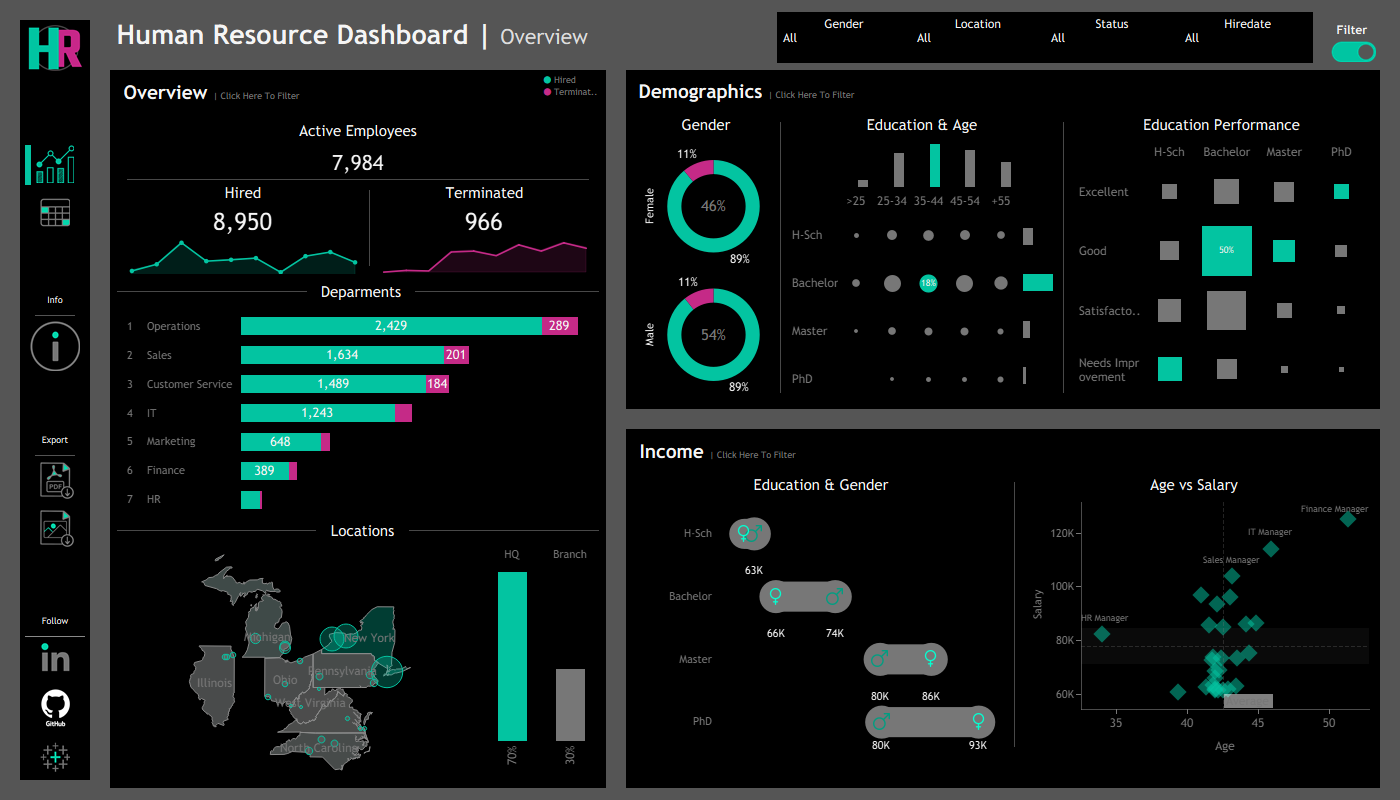

The page's visual inventory and layout, read from the dashboard file:
{"tool":"tableau","page":{"name":"HR | Summary","canvas":[1400,800],"ordinal":1},"visuals":[{"type":"blank","box":[89,0,1311,186]},{"type":"text","box":[110,0,949,70]},{"type":"blank","box":[1059,0,321,70]},{"type":"filter","title":"Gender vs Edu Level","param":"[federated.1epie721qamutk1f8vla402ryr66].[none:Gender:nk]","box":[777,12,134,51]},{"type":"filter","title":"Gender vs Edu Level","param":"[federated.1epie721qamutk1f8vla402ryr66].[none:Calculation_0877701839294473:nk]","box":[911,12,134,51]},{"type":"filter","title":"Gender vs Edu Level","param":"[federated.1epie721qamutk1f8vla402ryr66].[none:Calculation_1261156856659968:nk]","box":[1045,12,134,51]},{"type":"filter","title":"Gender vs Edu Level","param":"[federated.1epie721qamutk1f8vla402ryr66].[yr:Hiredate:ok]","box":[1179,12,134,51]},{"type":"text","box":[1313,16,78,28]},{"type":"image","param":"Image/Logo.png","box":[20,20,70,55]},{"type":"dashboard-object","box":[1329,41,49,21]},{"type":"text","box":[541,72,61,30]},{"type":"blank","box":[20,75,70,60]},{"type":"text","box":[632,76,742,31]},{"type":"text","box":[117,77,482,32]},{"type":"text","box":[117,109,482,38]},{"type":"text","box":[632,112,132,26]},{"type":"blank","box":[764,112,1,291]},{"type":"text","box":[765,112,282,26]},{"type":"blank","box":[1047,112,1,291]},{"type":"text","box":[1053,112,321,26]},{"type":"worksheet","title":"Gender","mark":"Pie","rows":["Gender"],"cols":["Calculation_0877701886140427","Calculation_0877701886140427"],"box":[632,138,132,265]},{"type":"worksheet","title":"Age Groups","mark":"Bar","rows":["Calculation_0877701809778688"],"cols":["Calculation_0877701892001805"],"box":[770,138,272,53]},{"type":"worksheet","title":"Educational BG vs Performance","mark":"Square","rows":["Performance Rating"],"cols":["Education Level"],"box":[1053,138,321,265]},{"type":"blank","box":[25,145,6,40]},{"type":"dashboard-object","box":[30,145,50,38]},{"type":"worksheet","title":"BAN Active","mark":"Text","box":[117,147,482,32]},{"type":"blank","box":[117,179,482,1]},{"type":"text","box":[117,180,252,26]},{"type":"blank","box":[369,180,1,96]},{"type":"text","box":[370,180,228.9,26]},{"type":"blank","box":[30,183,50,10]},{"type":"text","box":[89,186,1311,307]},{"type":"worksheet","title":"Age vs Education","mark":"Circle","rows":["Education Level"],"cols":["Calculation_0877701892001805"],"box":[770,191,233,212]},{"type":"worksheet","title":"Education Levels","mark":"Bar","rows":["Education Level"],"cols":["Calculation_0877701809778688"],"box":[1003,191,39,212]},{"type":"dashboard-object","box":[30,193,50,38]},{"type":"worksheet","title":"BAN Hired","mark":"Text","box":[117,206,252,32]},{"type":"worksheet","title":"BAN Terminated","mark":"Text","box":[370,206,228.9,32]},{"type":"blank","box":[30,231,50,60]},{"type":"worksheet","title":"Hired By Year","mark":"Line","rows":["Calculation_0877701809778688","Calculation_0877701809778688"],"cols":["Hiredate"],"box":[117,238,252,38]},{"type":"worksheet","title":"Terminated By Year","mark":"Area","rows":["Calculation_0877701809983489","Calculation_0877701809983489"],"cols":["Termdate"],"box":[370,238,228.9,38]},{"type":"blank","box":[117,276,190,32]},{"type":"text","box":[307,276,108,32]},{"type":"blank","box":[415,276,184,32]},{"type":"text","box":[30,291,50,19]},{"type":"worksheet","title":"Deparments","mark":"Bar","rows":["Calculation_0877701838131208","Department"],"cols":["Calculation_0877701809778688"],"box":[117,308,482,210]},{"type":"blank","box":[30,310,50,11]},{"type":"dashboard-object","box":[30,321,50,50]},{"type":"blank","box":[30,371,50,60]},{"type":"text","box":[30,431,50,19]},{"type":"text","box":[633,436,740,31]},{"type":"blank","box":[30,450,50,11]},{"type":"dashboard-object","box":[30,461,50,38]},{"type":"text","box":[633,472,376,26]},{"type":"blank","box":[1014,472,1,285]},{"type":"text","box":[1015,472,358,26]},{"type":"blank","box":[89,493,1311,307]},{"type":"worksheet","title":"Gender vs Edu Level","mark":"Square","rows":["Education Level"],"cols":["Salary","Salary"],"box":[633,498,376,259]},{"type":"worksheet","title":"Age vs Salary","mark":"Shape","rows":["Salary"],"cols":["Calculation_0877701890605068"],"box":[1015,498,358,259]},{"type":"blank","box":[30,499,50,10]},{"type":"dashboard-object","box":[30,509,50,38]},{"type":"blank","box":[117,518,199,26]},{"type":"text","box":[316,518,92.9,26]},{"type":"blank","box":[408.9,518,190.1,26]},{"type":"worksheet","title":"Map States","mark":"Automatic","box":[117,544,366.4,237]},{"type":"worksheet","title":"Location","mark":"Bar","rows":["Calculation_0877701809778688"],"cols":["Calculation_0877701839294473","Calculation1"],"box":[483.4,544,115.6,237]},{"type":"blank","box":[20,571,70,41]},{"type":"text","box":[20,612,70,19]},{"type":"blank","box":[20,631,70,11]},{"type":"image","param":"Image/contact-linkedin.png","box":[20,642,70,30]},{"type":"blank","box":[20,672,70,10]},{"type":"image","param":"Image/github-logo.jpg","box":[20,682,70,50]},{"type":"blank","box":[20,732,70,10]},{"type":"image","param":"Image/contact-public.png","box":[20,742,70,30]}]}

Visuals, with their boxes in screenshot pixels (x1, y1, x2, y2), scaled from the page's 1400x800 canvas onto the 1400x800 screenshot:
blank: Rect(89, 0, 1399, 186)
text: Rect(110, 0, 1059, 70)
blank: Rect(1059, 0, 1380, 70)
"Gender vs Edu Level" filter: Rect(777, 12, 911, 63)
"Gender vs Edu Level" filter: Rect(911, 12, 1045, 63)
"Gender vs Edu Level" filter: Rect(1045, 12, 1179, 63)
"Gender vs Edu Level" filter: Rect(1179, 12, 1313, 63)
text: Rect(1313, 16, 1391, 44)
image: Rect(20, 20, 90, 75)
dashboard-object: Rect(1329, 41, 1378, 62)
text: Rect(541, 72, 602, 102)
blank: Rect(20, 75, 90, 135)
text: Rect(632, 76, 1374, 107)
text: Rect(117, 77, 599, 109)
text: Rect(117, 109, 599, 147)
text: Rect(632, 112, 764, 138)
blank: Rect(764, 112, 765, 403)
text: Rect(765, 112, 1047, 138)
blank: Rect(1047, 112, 1048, 403)
text: Rect(1053, 112, 1374, 138)
"Gender" worksheet (Pie marks): Rect(632, 138, 764, 403)
"Age Groups" worksheet (Bar marks): Rect(770, 138, 1042, 191)
"Educational BG vs Performance" worksheet (Square marks): Rect(1053, 138, 1374, 403)
blank: Rect(25, 145, 31, 185)
dashboard-object: Rect(30, 145, 80, 183)
"BAN Active" worksheet (Text marks): Rect(117, 147, 599, 179)
blank: Rect(117, 179, 599, 180)
text: Rect(117, 180, 369, 206)
blank: Rect(369, 180, 370, 276)
text: Rect(370, 180, 599, 206)
blank: Rect(30, 183, 80, 193)
text: Rect(89, 186, 1399, 493)
"Age vs Education" worksheet (Circle marks): Rect(770, 191, 1003, 403)
"Education Levels" worksheet (Bar marks): Rect(1003, 191, 1042, 403)
dashboard-object: Rect(30, 193, 80, 231)
"BAN Hired" worksheet (Text marks): Rect(117, 206, 369, 238)
"BAN Terminated" worksheet (Text marks): Rect(370, 206, 599, 238)
blank: Rect(30, 231, 80, 291)
"Hired By Year" worksheet (Line marks): Rect(117, 238, 369, 276)
"Terminated By Year" worksheet (Area marks): Rect(370, 238, 599, 276)
blank: Rect(117, 276, 307, 308)
text: Rect(307, 276, 415, 308)
blank: Rect(415, 276, 599, 308)
text: Rect(30, 291, 80, 310)
"Deparments" worksheet (Bar marks): Rect(117, 308, 599, 518)
blank: Rect(30, 310, 80, 321)
dashboard-object: Rect(30, 321, 80, 371)
blank: Rect(30, 371, 80, 431)
text: Rect(30, 431, 80, 450)
text: Rect(633, 436, 1373, 467)
blank: Rect(30, 450, 80, 461)
dashboard-object: Rect(30, 461, 80, 499)
text: Rect(633, 472, 1009, 498)
blank: Rect(1014, 472, 1015, 757)
text: Rect(1015, 472, 1373, 498)
blank: Rect(89, 493, 1399, 799)
"Gender vs Edu Level" worksheet (Square marks): Rect(633, 498, 1009, 757)
"Age vs Salary" worksheet (Shape marks): Rect(1015, 498, 1373, 757)
blank: Rect(30, 499, 80, 509)
dashboard-object: Rect(30, 509, 80, 547)
blank: Rect(117, 518, 316, 544)
text: Rect(316, 518, 409, 544)
blank: Rect(409, 518, 599, 544)
"Map States" worksheet: Rect(117, 544, 483, 781)
"Location" worksheet (Bar marks): Rect(483, 544, 599, 781)
blank: Rect(20, 571, 90, 612)
text: Rect(20, 612, 90, 631)
blank: Rect(20, 631, 90, 642)
image: Rect(20, 642, 90, 672)
blank: Rect(20, 672, 90, 682)
image: Rect(20, 682, 90, 732)
blank: Rect(20, 732, 90, 742)
image: Rect(20, 742, 90, 772)
